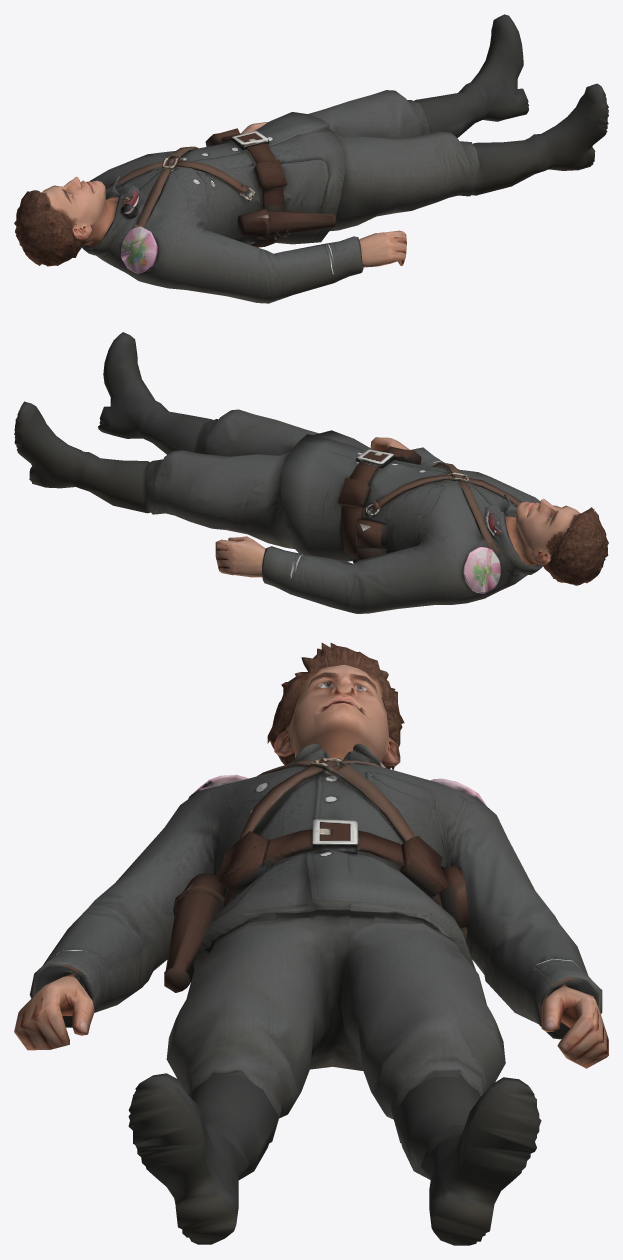
File: ww1 dead german soldier 3d modelv1.glb
3 renders of one model, top to bottom at view 1: azimuth 30°, elevation 25°; view 2: azimuth 150°, elevation 25°; view 3: azimuth 270°, elevation 25°, orthographic. The views are drawn at different scales.
Parts seen in each view (by area): view 1: tripo_node_c41c10ad-a65e-4e85-b9a2-7059626d37dc; view 2: tripo_node_c41c10ad-a65e-4e85-b9a2-7059626d37dc; view 3: tripo_node_c41c10ad-a65e-4e85-b9a2-7059626d37dc.
Boxes of the visible parts, x1,y1,x2,y2 form: tripo_node_c41c10ad-a65e-4e85-b9a2-7059626d37dc: [14, 14, 608, 303]; tripo_node_c41c10ad-a65e-4e85-b9a2-7059626d37dc: [14, 332, 608, 613]; tripo_node_c41c10ad-a65e-4e85-b9a2-7059626d37dc: [14, 643, 608, 1245].
Size of the model in its own units: 0.998 by 0.2207 by 0.5176.
1 material, 1 textured.
